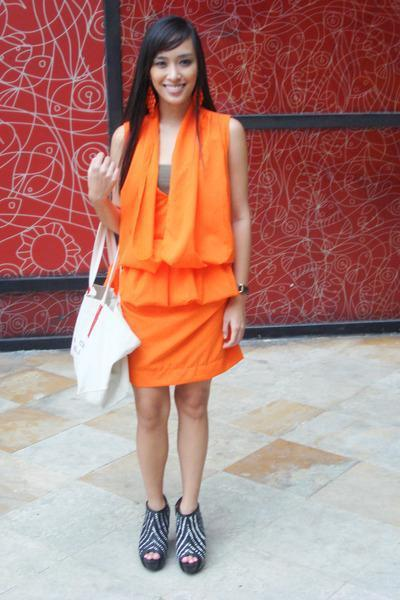bag: (71, 228, 139, 403)
dress: (110, 88, 243, 387)
shirt: (156, 156, 171, 192)
shoe: (139, 495, 206, 574)
